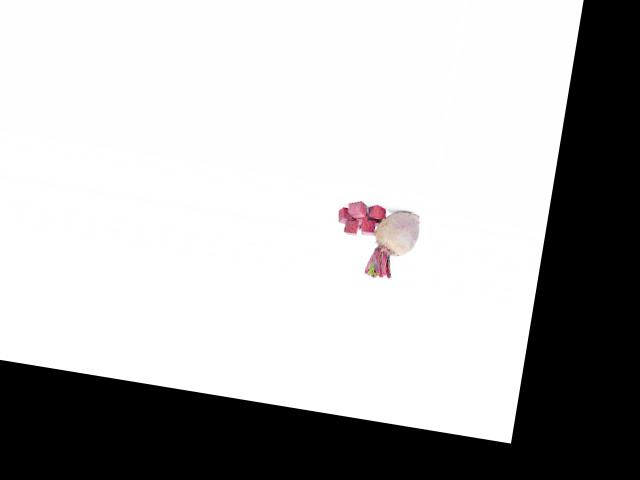beet: (363, 205, 421, 282)
